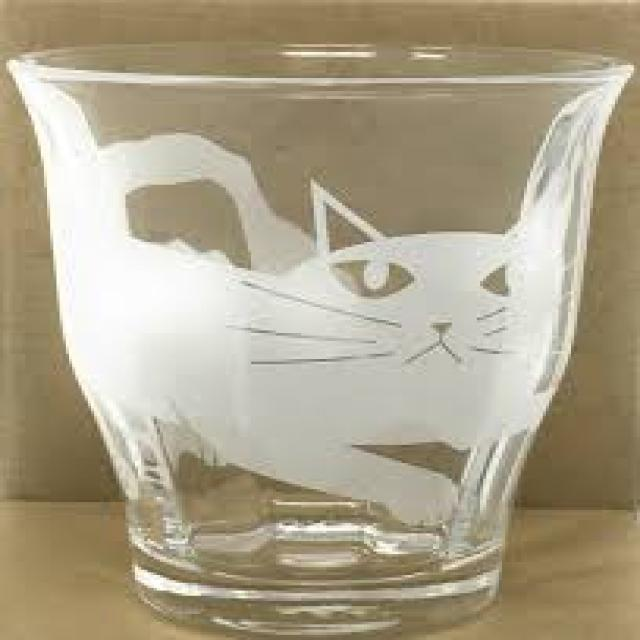Glass: (11, 41, 638, 640)
